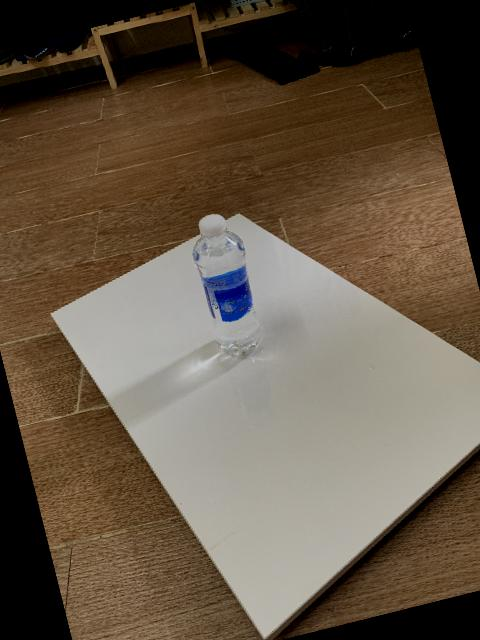aquafina: (193, 213, 261, 356)
